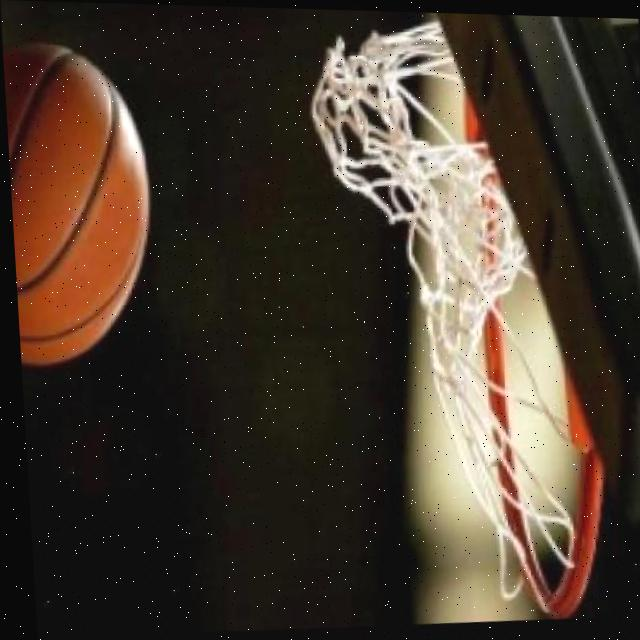Basketball: (3, 43, 154, 366)
